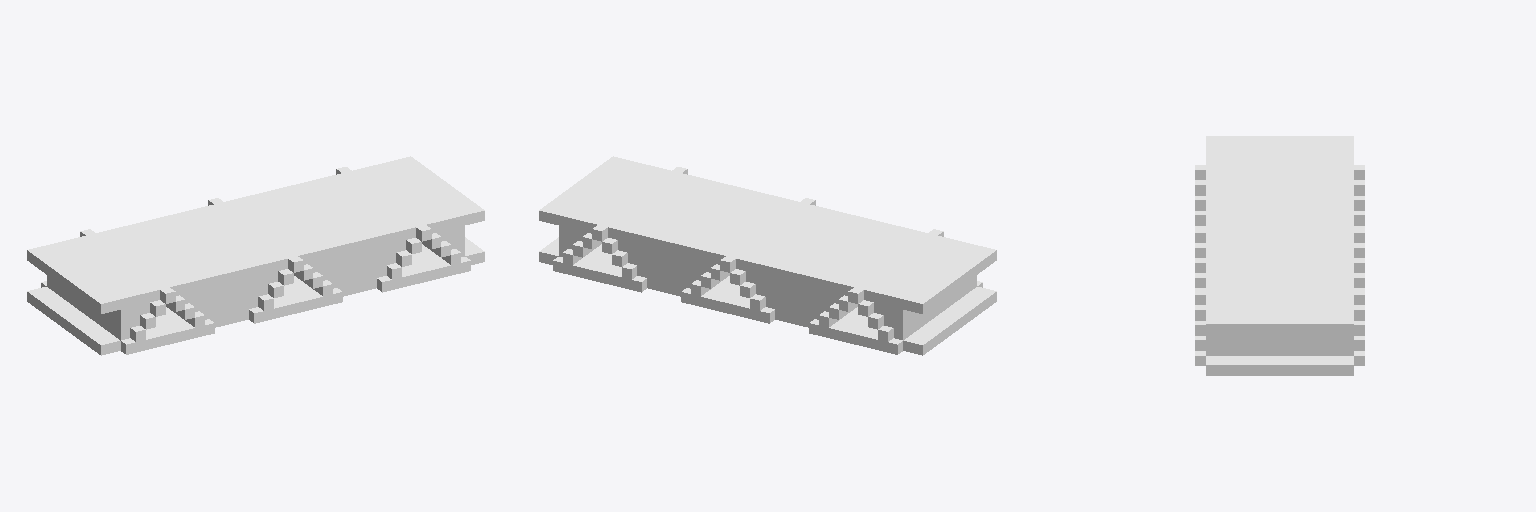
File: Lift_Up.obj
3 views of the same model, side by side, from view 1: azimuth 30°, elevation 25°; view 2: azimuth 150°, elevation 25°; view 3: azimuth 270°, elevation 25° (orthographic).
Parts seen in each view (by area): view 1: object 1; view 2: object 1; view 3: object 1.
Part boxes in pixels (bbox=[...]): object 1: bbox=[27, 156, 484, 355]; object 1: bbox=[539, 156, 996, 355]; object 1: bbox=[1195, 136, 1364, 375].
Size of the model in its own units: 3.9 by 0.5 by 1.5.